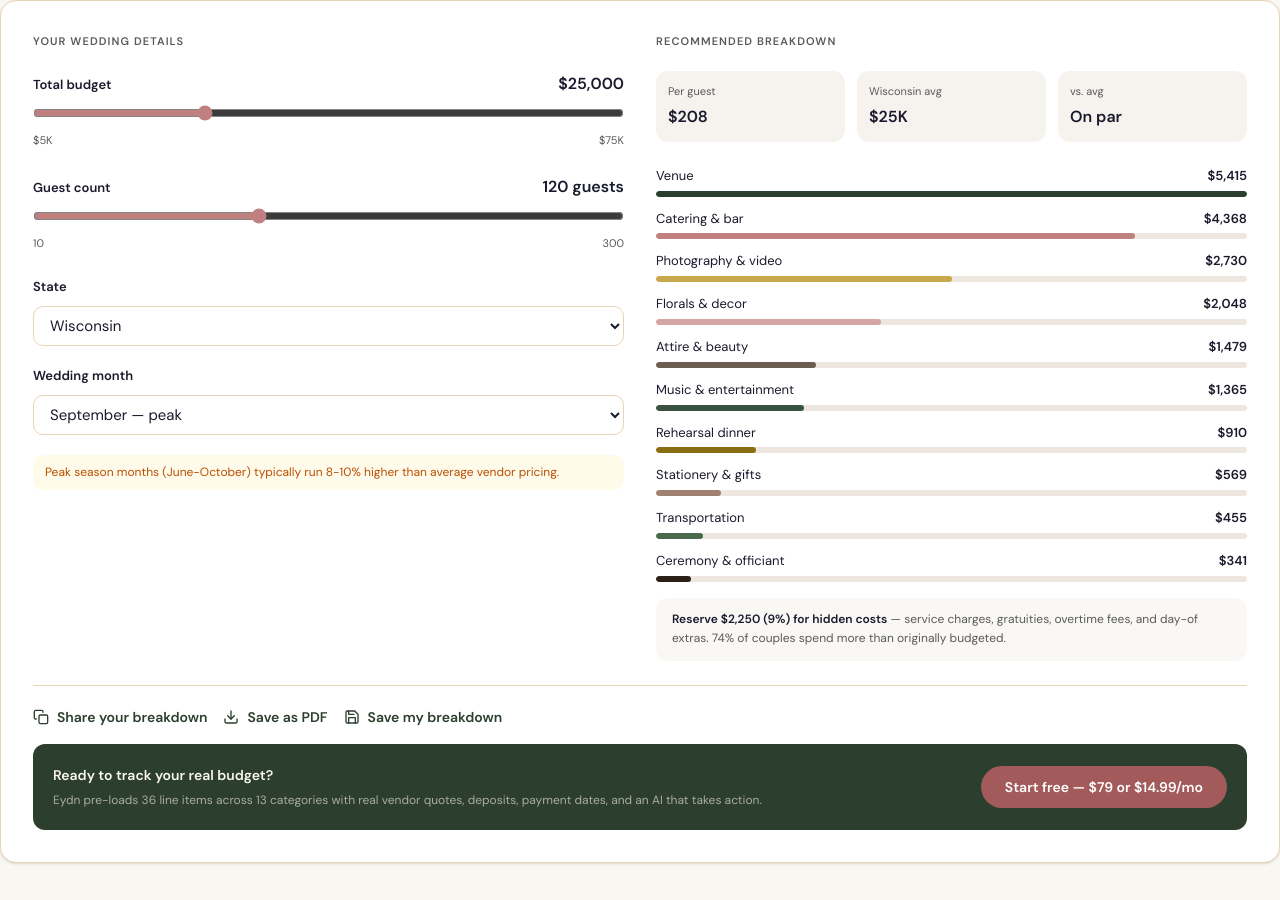
Test case: WeddingBudgetCalculator › opens save modal when 'Share your breakdown' is clicked
Click the button "Share your breakdown": {"x": 120, "y": 717} [33,706,208,728]
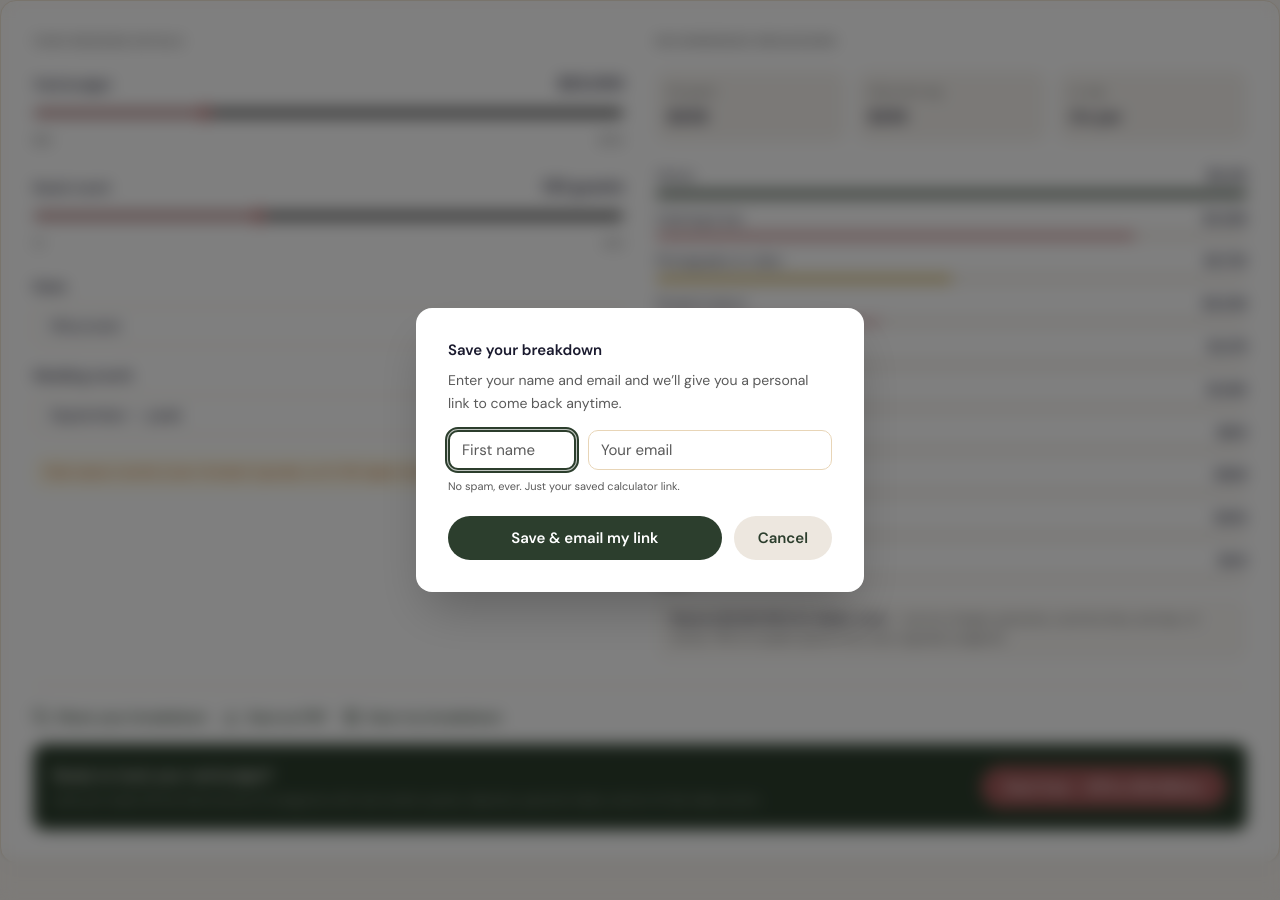
Result: the heading "Save your breakdown" is shown at [448,340,602,360]
Result: the field with placeholder "First name" is shown at [448,430,576,470]
Result: the field with placeholder "Your email" is shown at [588,430,832,470]
